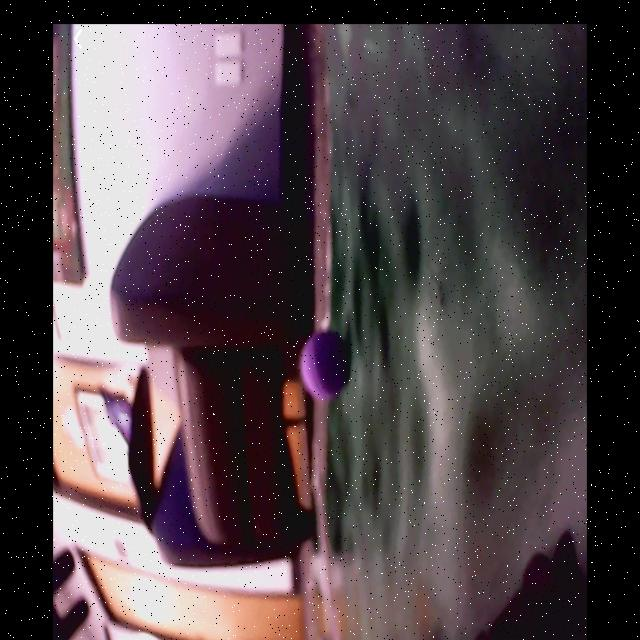ball: (303, 332, 350, 401)
